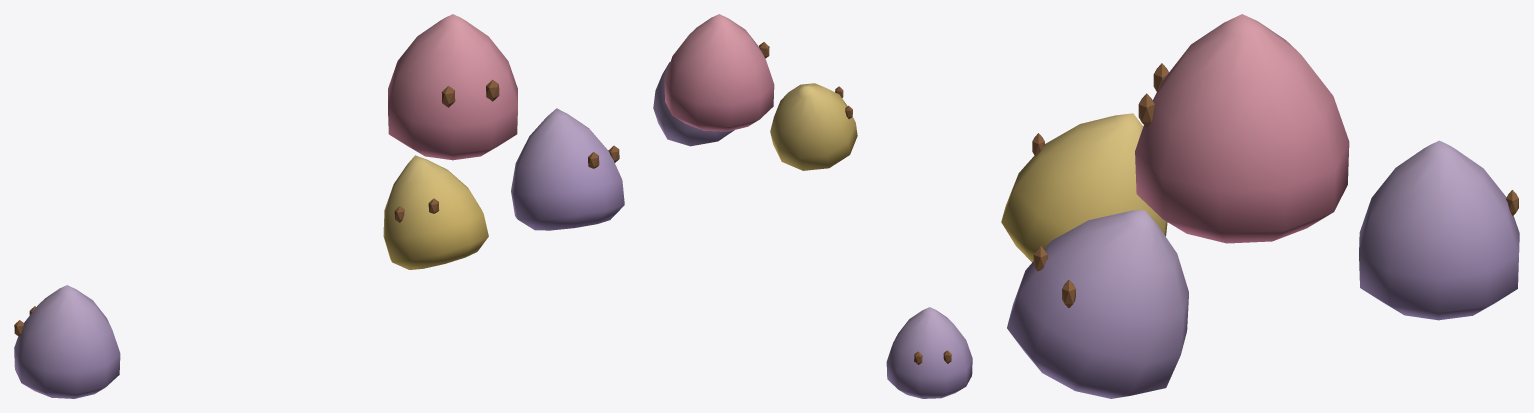
The model's file is slime_fountain_emerge.fbx.
3 views of the same model, side by side, from view 1: azimuth 30°, elevation 25°; view 2: azimuth 150°, elevation 25°; view 3: azimuth 270°, elevation 25° (orthographic). The views are drawn at different scales.
Parts seen in each view (by area): view 1: slime_fountain_emerge; view 2: slime_fountain_emerge; view 3: slime_fountain_emerge.
Boxes of the visible parts, left/top/right/bottom form: slime_fountain_emerge: left=14, top=14, right=624, bottom=398; slime_fountain_emerge: left=653, top=14, right=972, bottom=398; slime_fountain_emerge: left=1001, top=14, right=1519, bottom=398.
Bounding box in the file's own units: 19.44 × 12.8 × 11.35.
